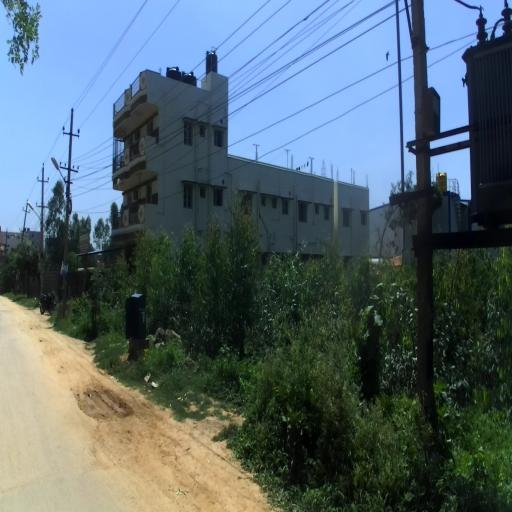street_light_0: (51, 156, 71, 197), (27, 201, 43, 230), (15, 233, 21, 246)
